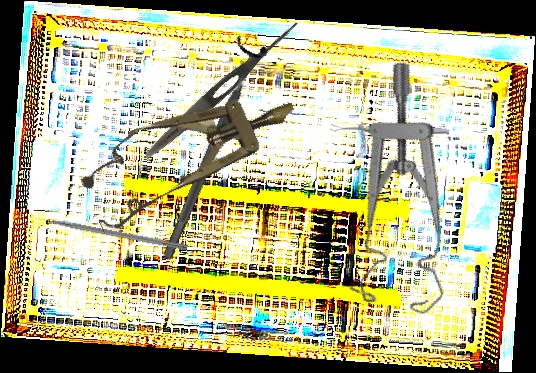Dressing Forceps: (141, 14, 304, 163)
Fixation Ring: (149, 34, 272, 267)
Hook Surgical: (29, 212, 189, 252)
Speculum: (303, 57, 521, 329), (70, 66, 311, 238)
Surgical Spoon: (330, 123, 450, 136)
